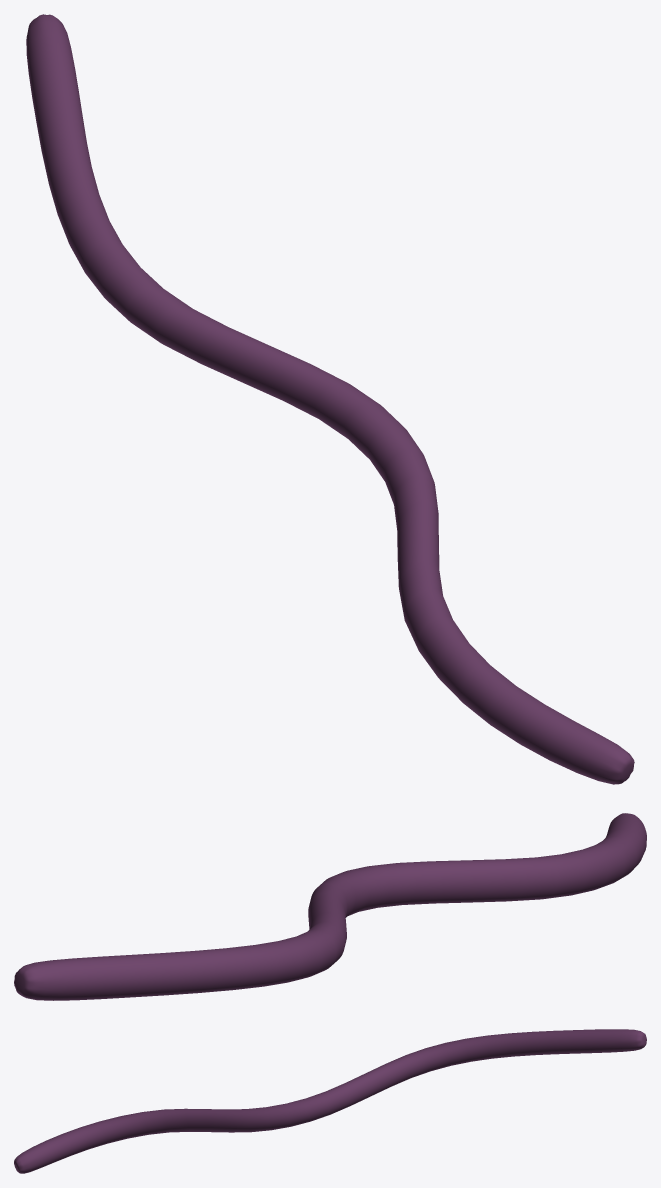
File: frame_15.obj
3 views of the same model, one above another, from view 1: azimuth 30°, elevation 25°; view 2: azimuth 150°, elevation 25°; view 3: azimuth 270°, elevation 25° (orthographic). The views are drawn at different scales.
Visible parts, largest first — view 1: worm2; view 2: worm2; view 3: worm2.
Part boxes in pixels (x1=…): worm2: x1=26, y1=14, x2=634, y2=784; worm2: x1=14, y1=813, x2=646, y2=1000; worm2: x1=14, y1=1029, x2=646, y2=1173.
Bounding box in the file's own units: 233 × 454 × 1709.
